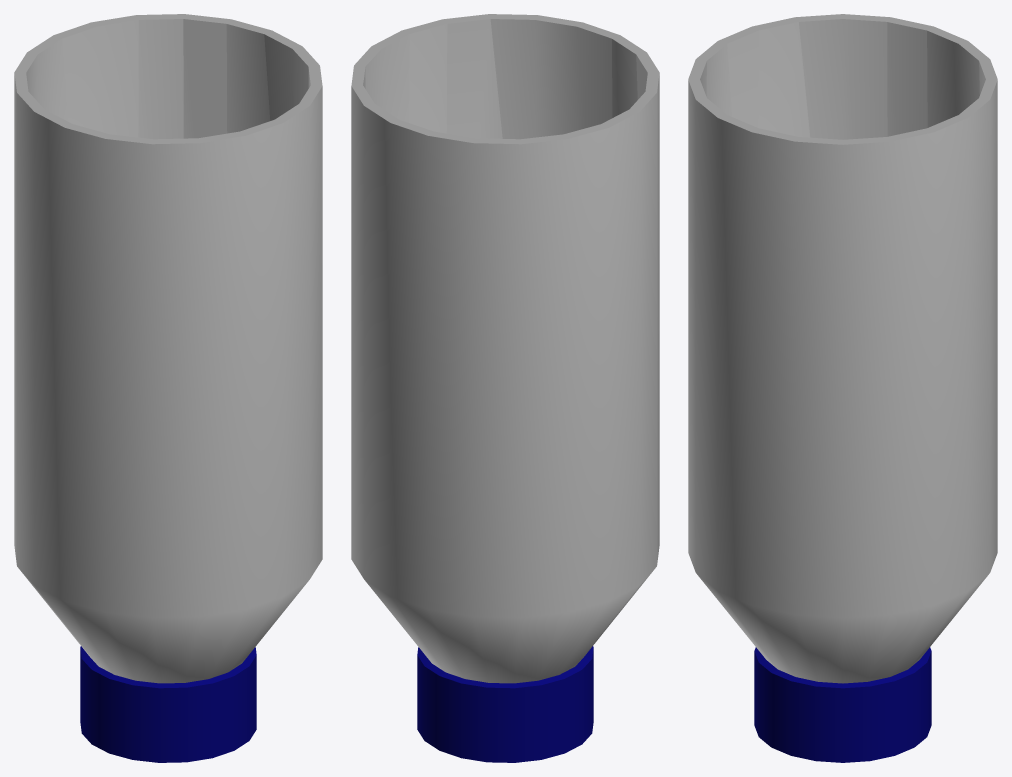
The model's file is botella.fbx.
3 views of the same model, side by side, from view 1: azimuth 30°, elevation 25°; view 2: azimuth 150°, elevation 25°; view 3: azimuth 270°, elevation 25° (orthographic).
Parts seen in each view (by area): view 1: Filtro; view 2: Filtro; view 3: Filtro.
Part boxes in pixels (x1=…): Filtro: x1=14, y1=14, x2=322, y2=762; Filtro: x1=351, y1=14, x2=659, y2=762; Filtro: x1=688, y1=14, x2=997, y2=762.
Bounding box in the file's own units: 2.35 × 5.41 × 2.35.
